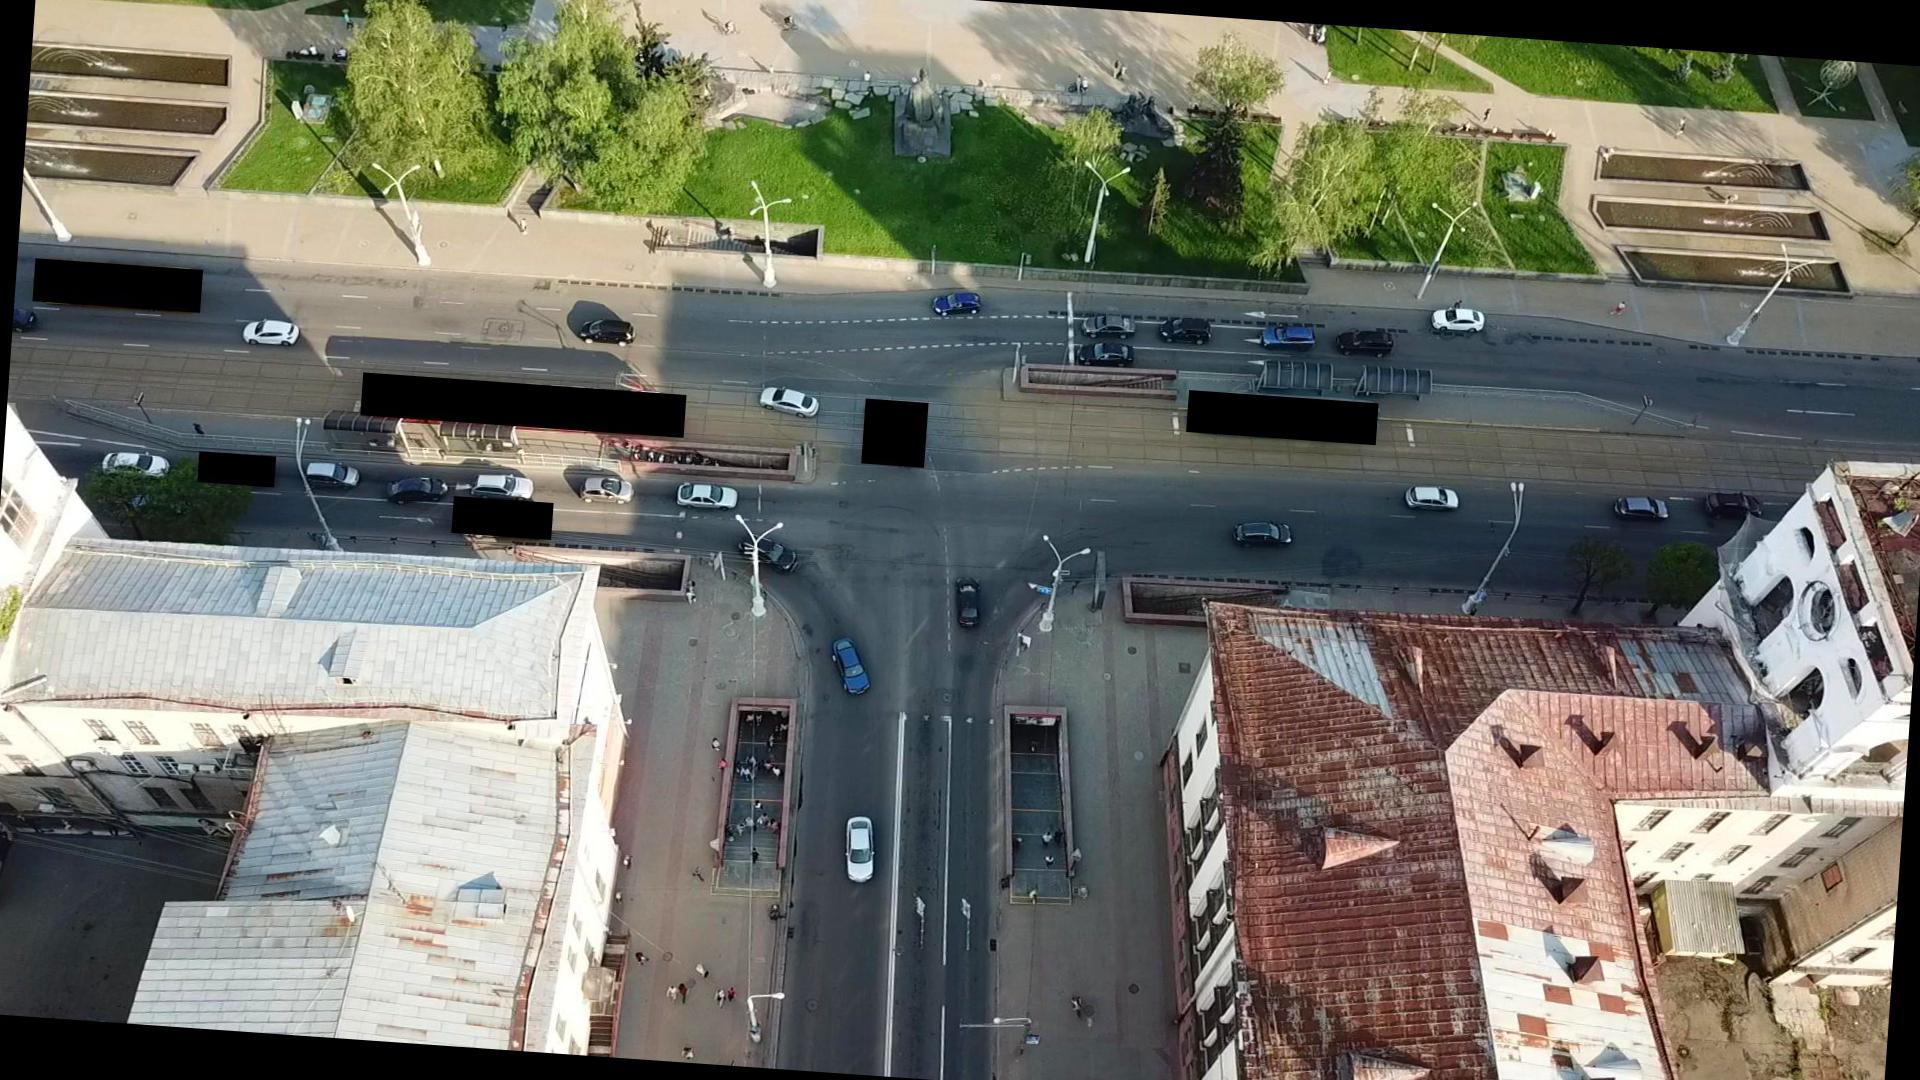vehicle: (829, 637, 874, 698), (737, 533, 799, 574), (841, 815, 877, 884), (102, 448, 171, 480), (384, 473, 448, 506), (1333, 327, 1395, 359), (1232, 518, 1294, 549), (1704, 491, 1764, 521), (951, 574, 984, 629), (301, 460, 360, 491), (1073, 338, 1135, 367), (675, 483, 740, 510), (579, 316, 637, 347), (1403, 483, 1461, 512), (1429, 305, 1486, 334), (1613, 493, 1669, 522), (241, 318, 301, 345), (1261, 323, 1316, 352), (579, 475, 634, 504), (1158, 316, 1212, 345), (1080, 313, 1137, 339), (931, 289, 982, 318)
